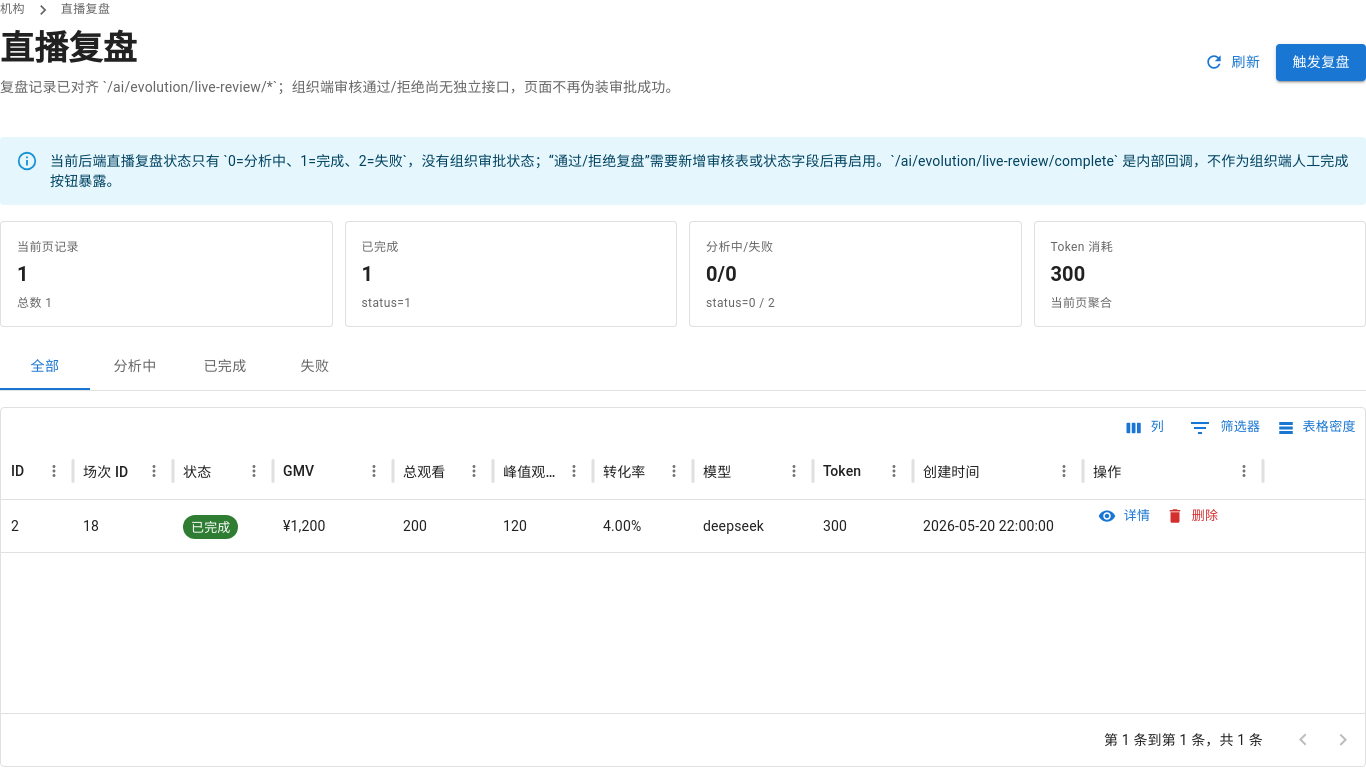
Test: Org pages › shows live review detail source errors without fake report content
Expected: the heading "直播复盘" is shown, [0,28,137,68]
Click the button "详情" at {"x": 1125, "y": 516}, box [1093,501,1157,532]
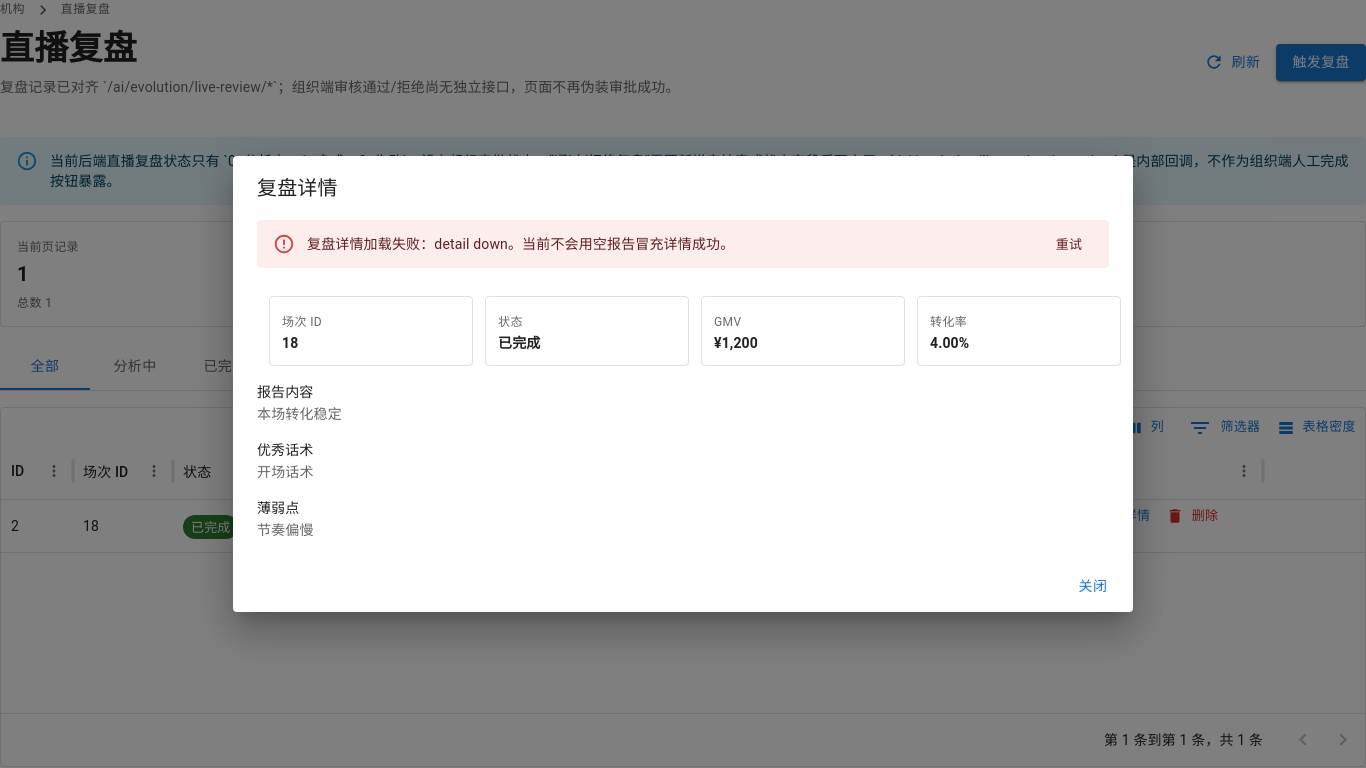
Expected: the message with test id "org-live-review-detail-source-error" shows "detail down", [434,236,508,252]
Expected: the message with test id "org-live-review-detail-source-error" shows "不会用空报告冒充详情成功", [508,236,734,252]
